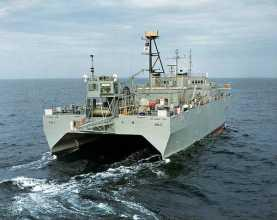warship: (39, 22, 229, 163)
